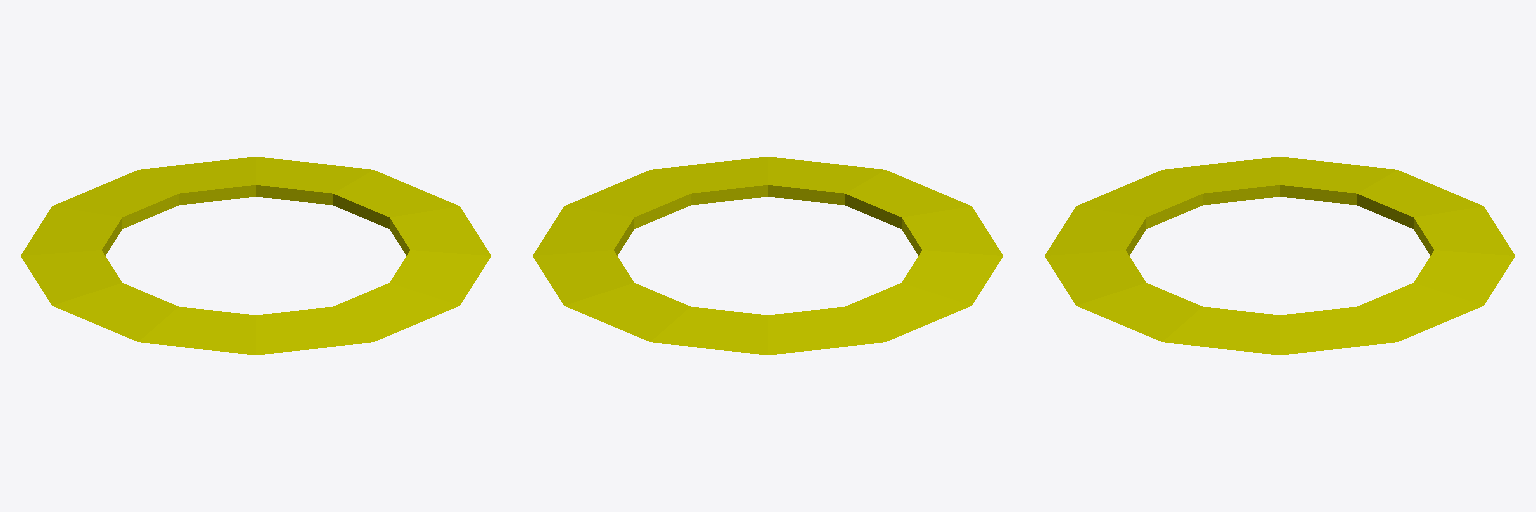
Rendered from click_3.obj.
3 renders of one model, left to right at view 1: azimuth 30°, elevation 25°; view 2: azimuth 150°, elevation 25°; view 3: azimuth 270°, elevation 25°, orthographic.
Visible parts, largest first — view 1: Torus.008; view 2: Torus.008; view 3: Torus.008.
Part boxes in pixels (left/top/right/bottom): Torus.008: left=21, top=157, right=490, bottom=354; Torus.008: left=533, top=157, right=1002, bottom=354; Torus.008: left=1045, top=157, right=1514, bottom=354.
Bounding box in the file's own units: 1.8 × 0.0495 × 1.8.